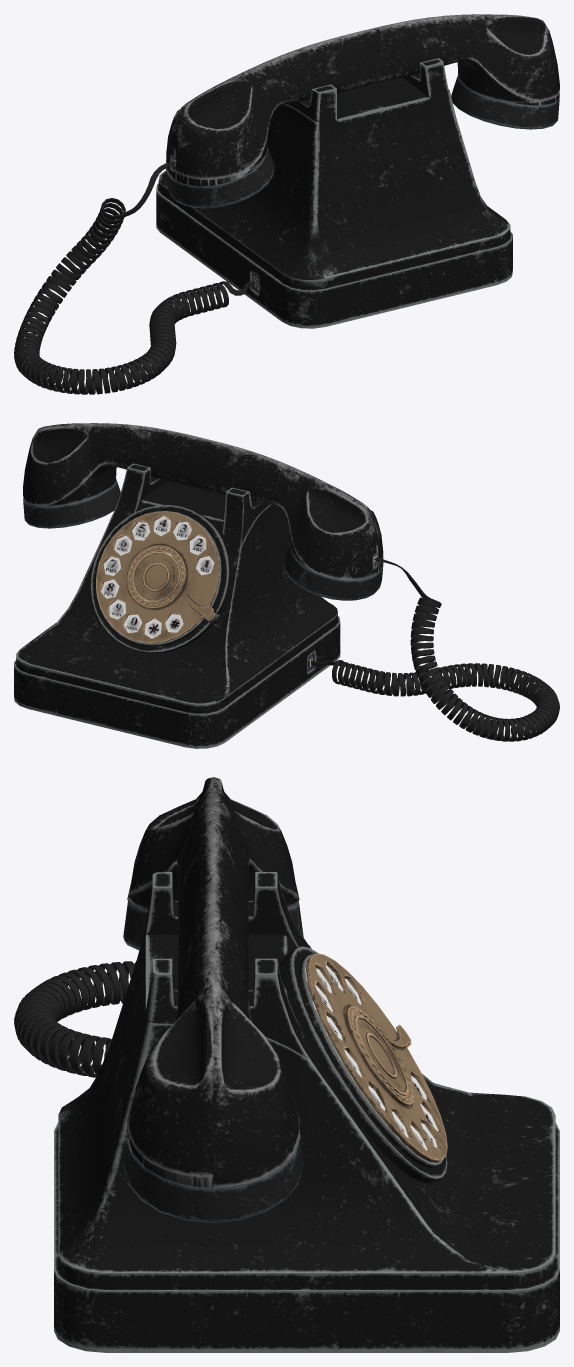
File: Telephone.fbx
3 views of the same model, one above another, from view 1: azimuth 30°, elevation 25°; view 2: azimuth 150°, elevation 25°; view 3: azimuth 270°, elevation 25° (orthographic). The views are drawn at different scales.
Parts seen in each view (by area): view 1: Korpys, Trybka, Shyr, Nakadki, Pol; view 2: Korpys, Trybka, Shyr, Disk, Nakadki, Ciferblat, Vtylka, Pol; view 3: Korpys, Trybka, Disk, Shyr, Nakadki, Vtylka, Ciferblat, Pol.
Part boxes in pixels (left/top/right/bottom): Korpys: left=156, top=58, right=512, bottom=327; Trybka: left=166, top=14, right=559, bottom=186; Shyr: left=14, top=161, right=255, bottom=394; Nakadki: left=166, top=74, right=559, bottom=208; Pol: left=156, top=227, right=512, bottom=328; Korpys: left=14, top=463, right=340, bottom=747; Trybka: left=23, top=423, right=383, bottom=580; Shyr: left=311, top=557, right=559, bottom=741; Disk: left=96, top=511, right=219, bottom=643; Nakadki: left=23, top=478, right=383, bottom=600; Ciferblat: left=101, top=516, right=219, bottom=638; Vtylka: left=132, top=551, right=180, bottom=602; Pol: left=14, top=655, right=340, bottom=748; Korpys: left=54, top=872, right=559, bottom=1350; Trybka: left=127, top=777, right=299, bottom=1187; Disk: left=306, top=953, right=447, bottom=1162; Shyr: left=14, top=961, right=136, bottom=1077; Nakadki: left=123, top=901, right=303, bottom=1222; Vtylka: left=354, top=1015, right=408, bottom=1095; Ciferblat: left=305, top=964, right=438, bottom=1150; Pol: left=54, top=1329, right=559, bottom=1352.
Size of the model in its own units: 24.11 by 10.51 by 12.63.
